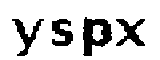p: (79, 16, 113, 60)
s: (49, 18, 74, 49)
x: (116, 17, 148, 50)
y: (8, 17, 47, 57)
